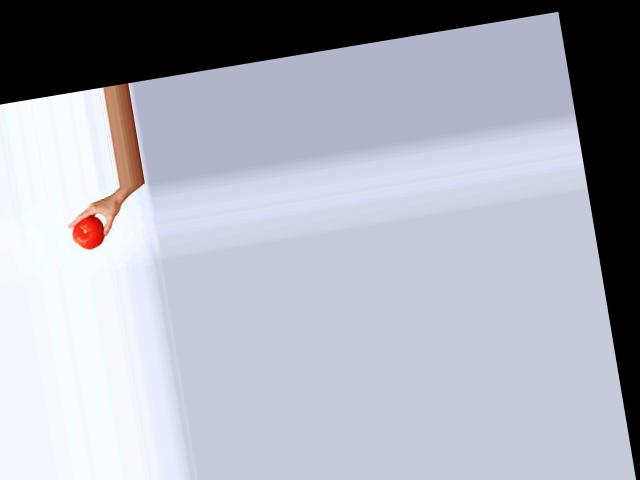tomato: (69, 215, 106, 251)
